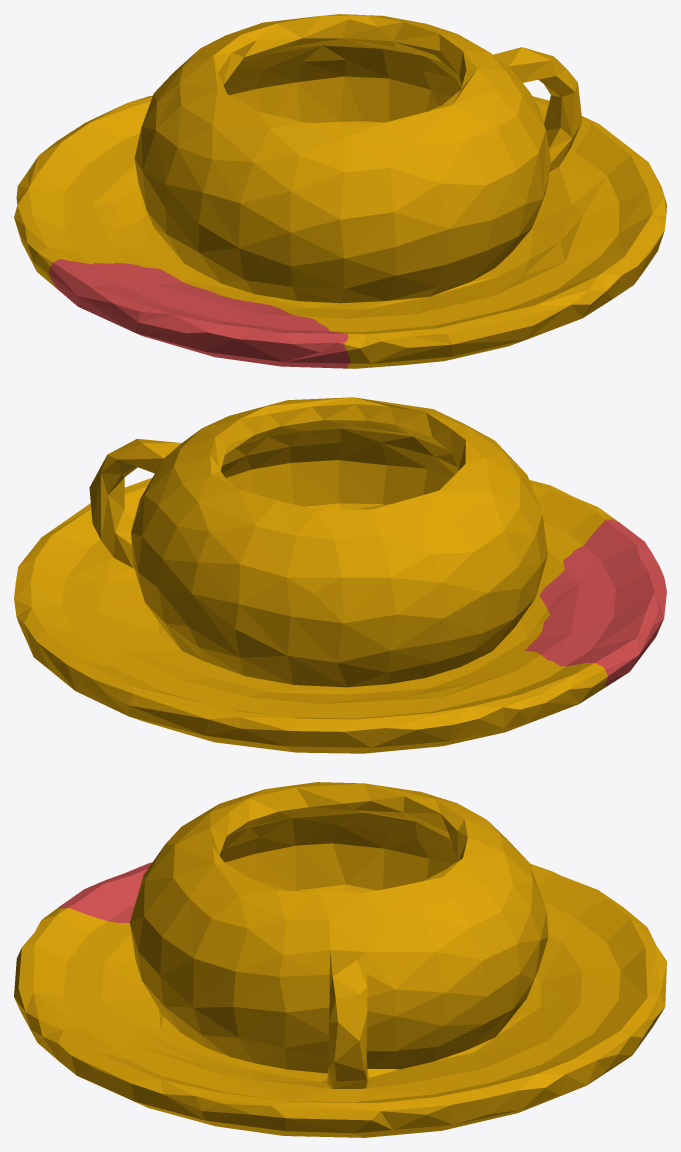
File: fractured_47_2pcs.glb
3 views of the same model, one above another, from view 1: azimuth 30°, elevation 25°; view 2: azimuth 150°, elevation 25°; view 3: azimuth 270°, elevation 25° (orthographic).
Parts seen in each view (by area): view 1: piece_0.obj, piece_1.obj; view 2: piece_0.obj, piece_1.obj; view 3: piece_0.obj, piece_1.obj.
Boxes of the visible parts, left/top/right/bottom form: piece_0.obj: left=14, top=14, right=666, bottom=368; piece_1.obj: left=48, top=259, right=350, bottom=368; piece_0.obj: left=14, top=397, right=618, bottom=753; piece_1.obj: left=525, top=519, right=666, bottom=687; piece_0.obj: left=14, top=782, right=666, bottom=1137; piece_1.obj: left=58, top=862, right=152, bottom=922.
Bounding box in the file's own units: 1 × 0.3294 × 0.9986.
